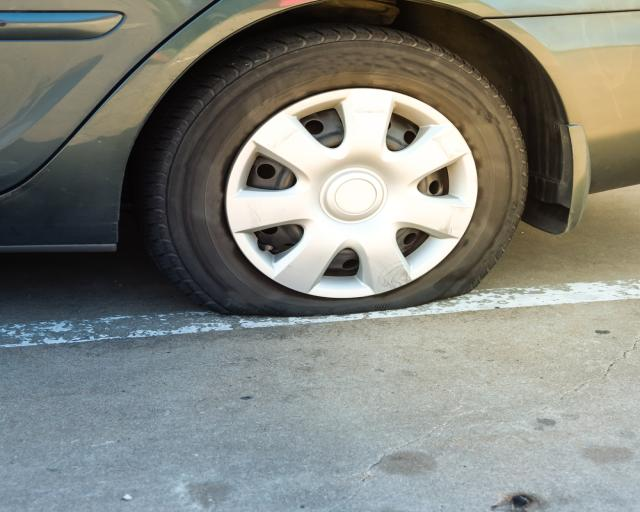tire flat: (153, 26, 529, 317)
